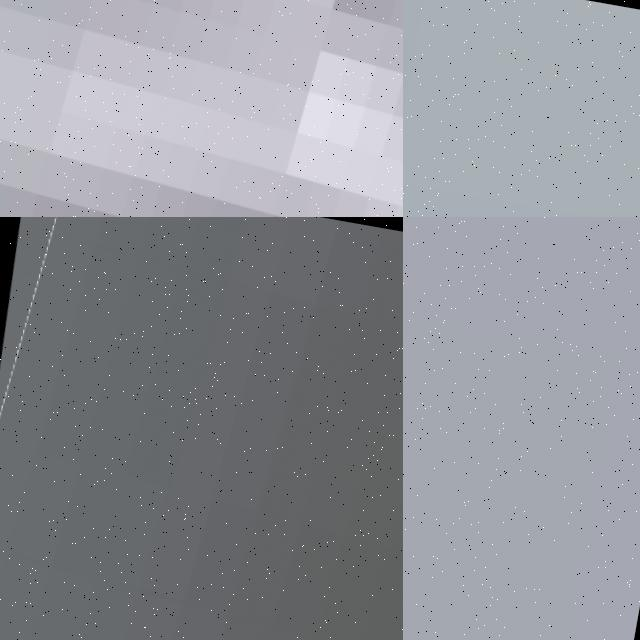drone: (0, 217, 403, 640), (0, 0, 403, 217)
